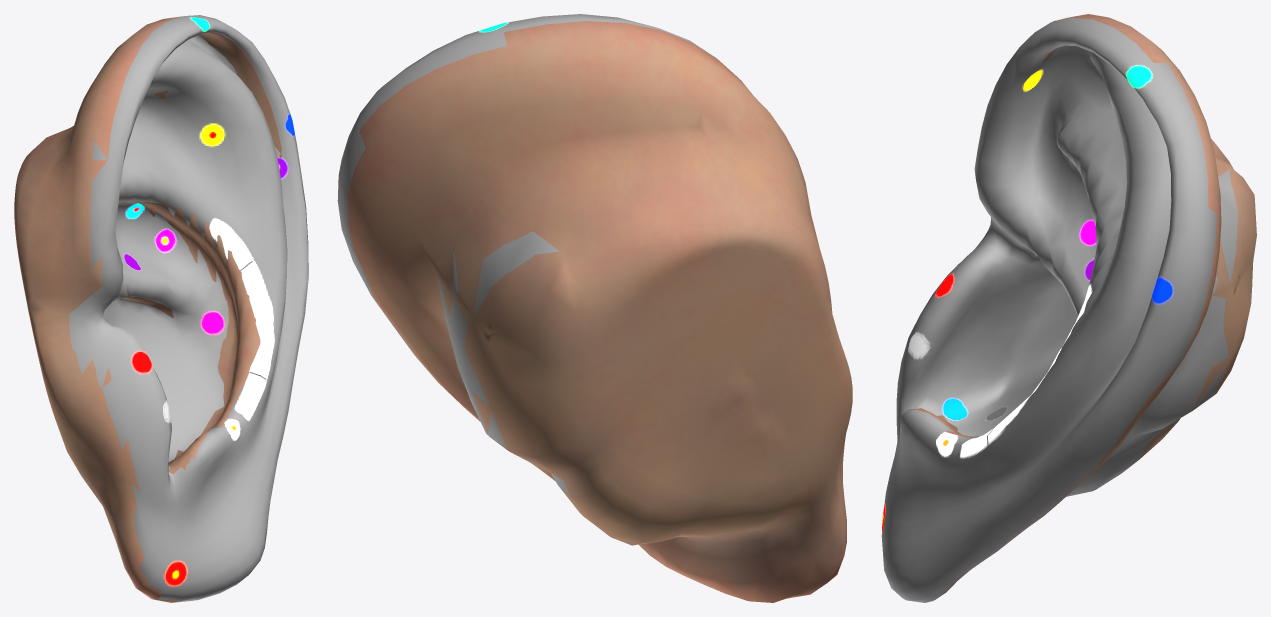
3 views of the same model, side by side, from view 1: azimuth 30°, elevation 25°; view 2: azimuth 150°, elevation 25°; view 3: azimuth 270°, elevation 25° (orthographic). The views are drawn at different scales.
Parts seen in each view (by area): view 1: Pontos, Orelha; view 2: Orelha, Pontos; view 3: Pontos, Orelha.
Boxes of the visible parts, <box> form: Pontos: <box>69,15,308,602</box>; Orelha: <box>14,16,281,602</box>; Orelha: <box>347,21,852,602</box>; Pontos: <box>337,14,736,513</box>; Pontos: <box>881,17,1238,602</box>; Orelha: <box>908,14,1256,600</box>.
Bounding box in the file's own units: 1.18 × 1.71 × 1.
Materials: 6 (2 with a texture image).
